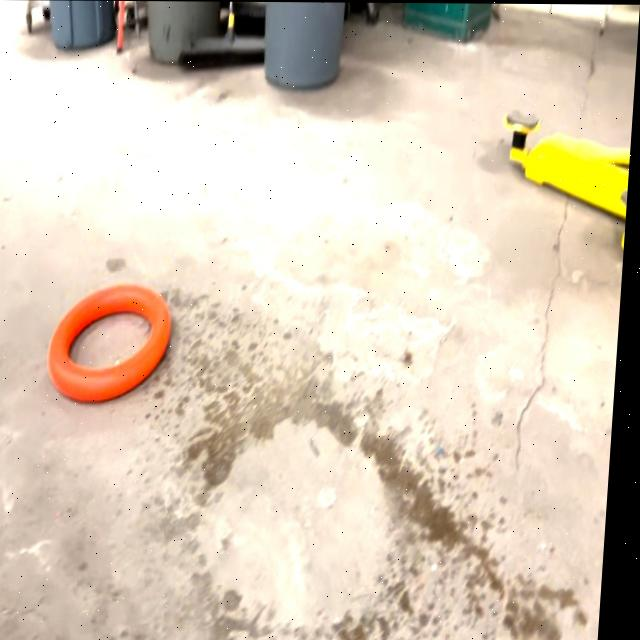note: (53, 287, 177, 406)
